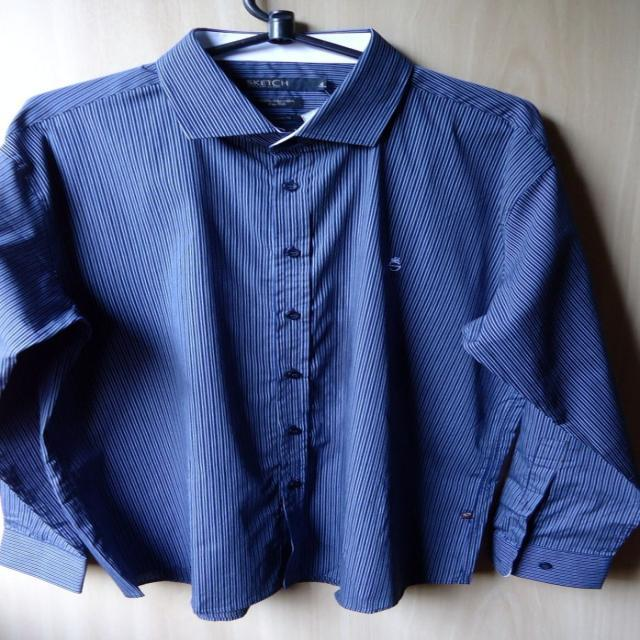long sleeve shirt: (0, 19, 639, 624)
